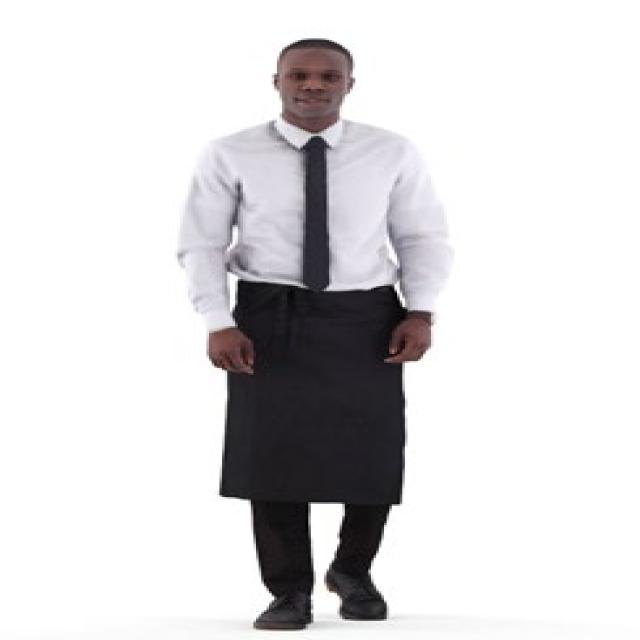standing: (168, 37, 465, 640)
